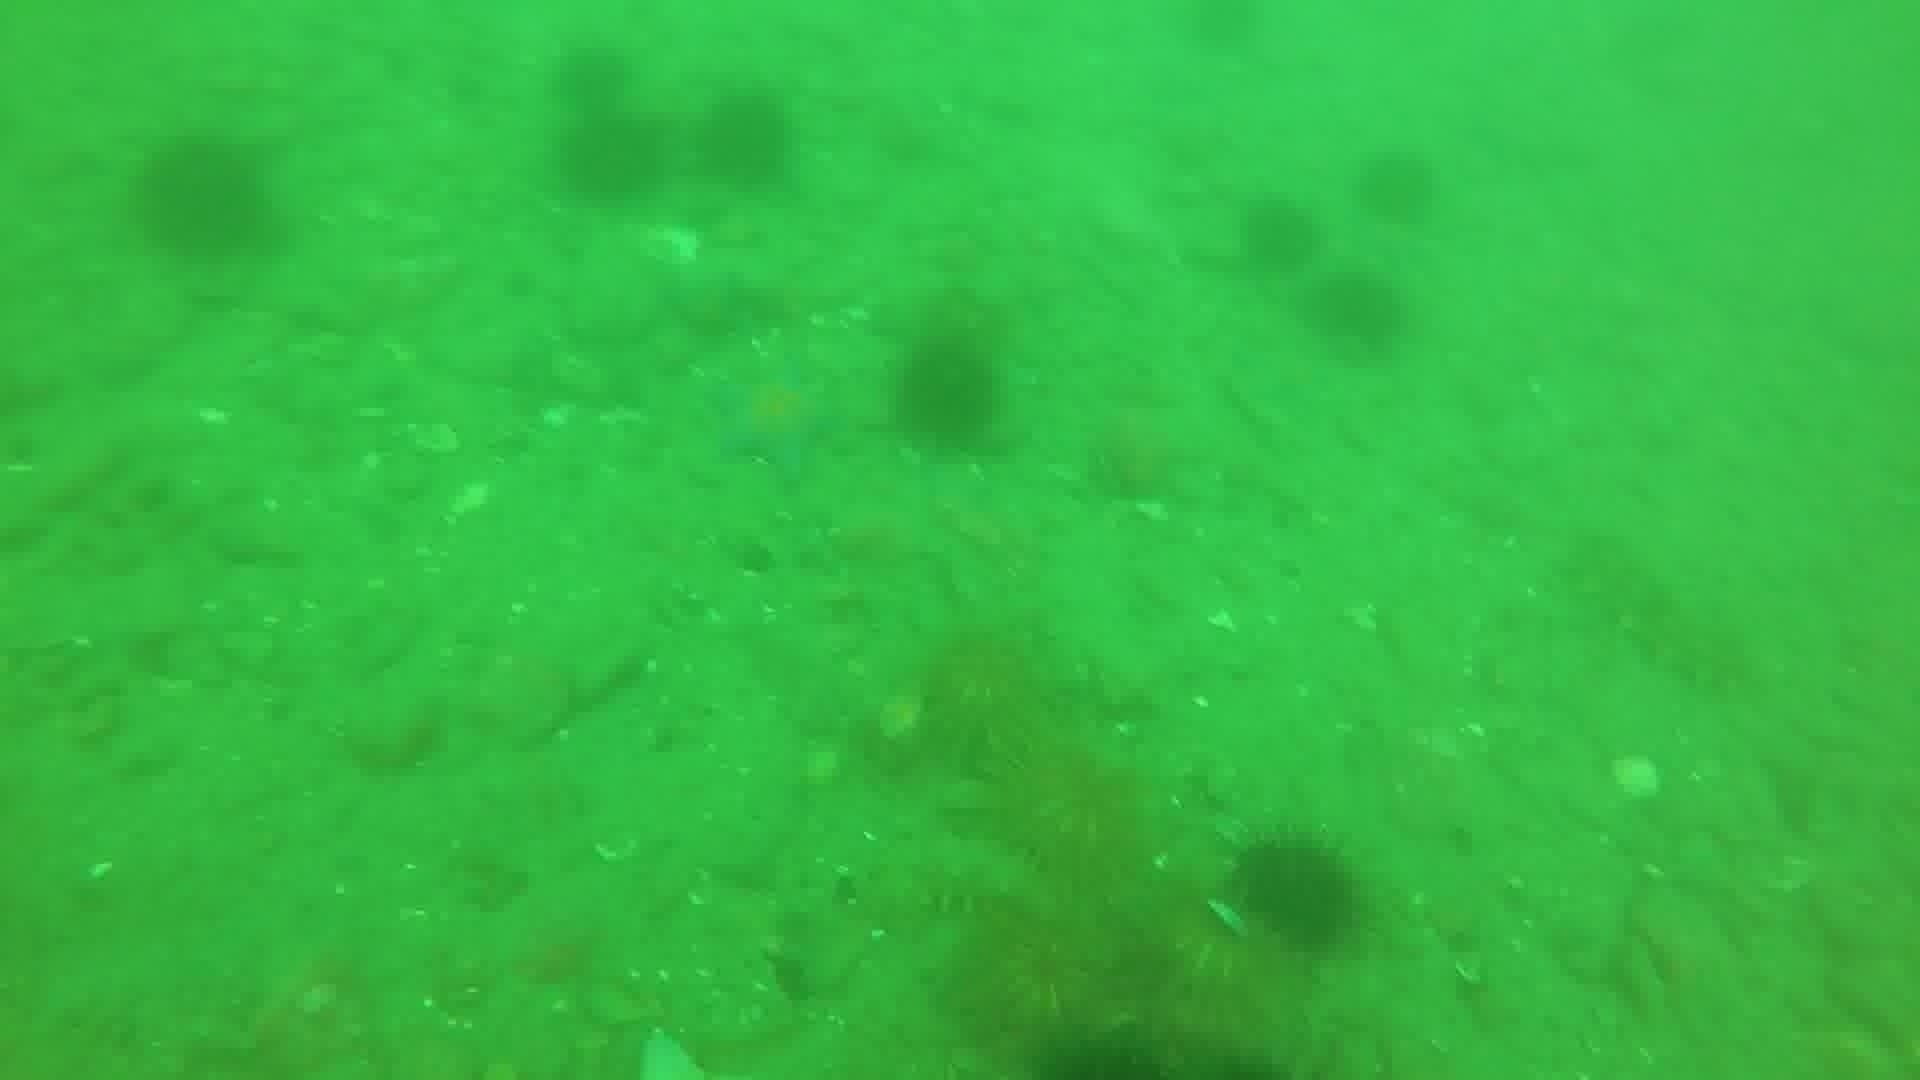echinus: (939, 894, 1164, 1075), (971, 731, 1153, 895), (902, 621, 1062, 775), (131, 132, 276, 264), (1225, 828, 1365, 955), (890, 334, 1007, 455), (694, 86, 800, 191), (553, 109, 666, 206), (1015, 1017, 1176, 1080), (1305, 266, 1410, 356), (1352, 145, 1443, 229), (1236, 194, 1323, 276), (549, 38, 638, 113)
holothurian: (1559, 527, 1754, 698), (862, 840, 1059, 922)
starfish: (705, 364, 843, 481)
